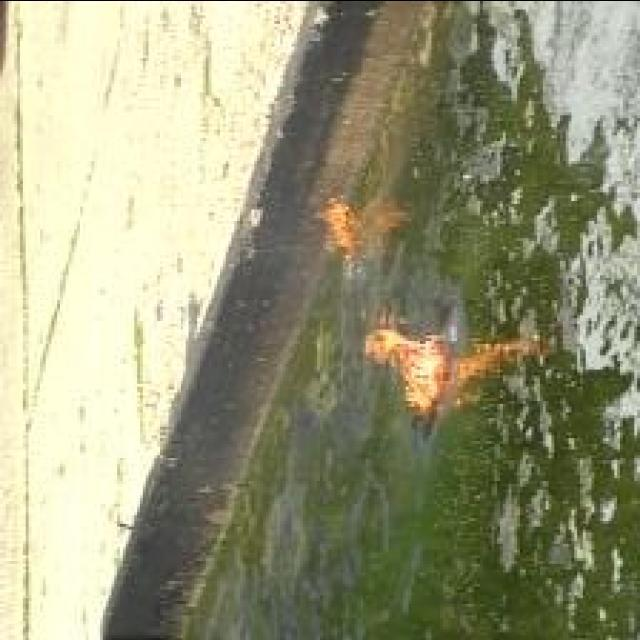Fire: (366, 327, 446, 410), (317, 190, 357, 253)
